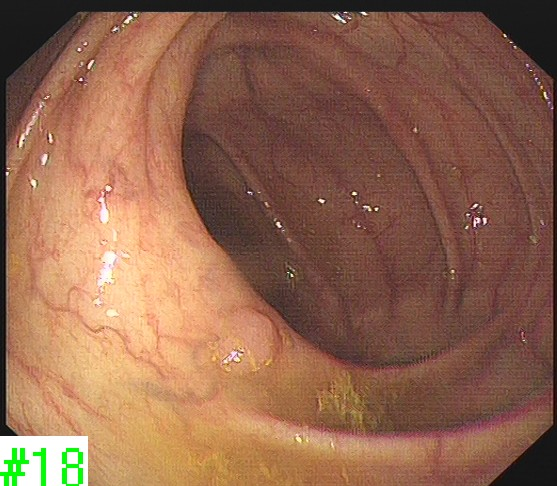adenoma: (206, 302, 284, 378)
